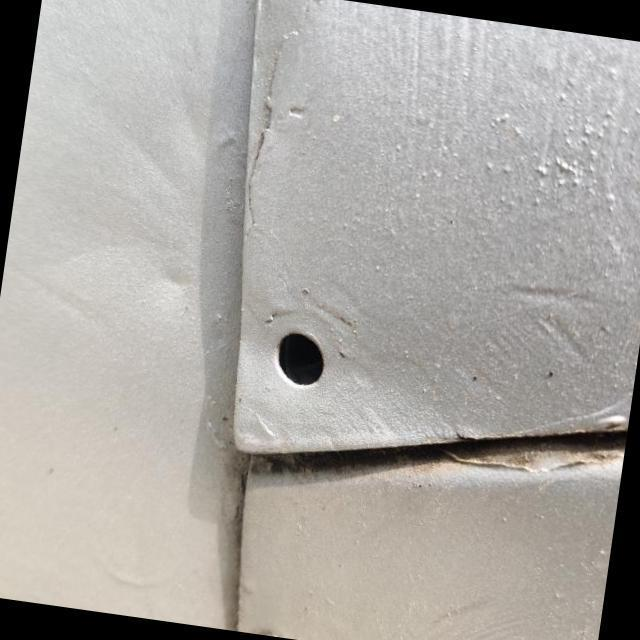Fastener Damage: (219, 276, 386, 449)
